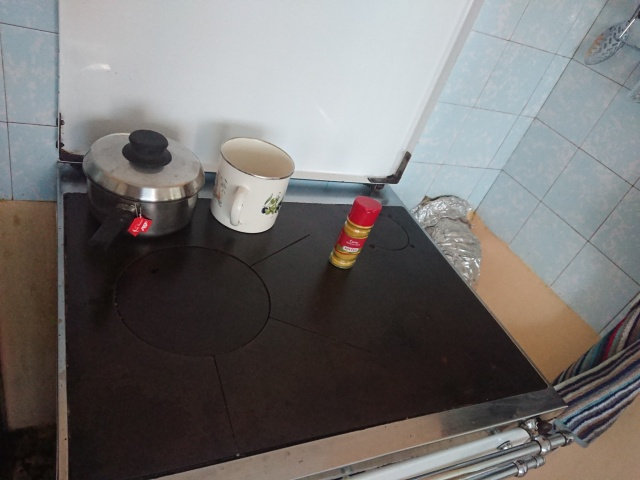Kotanyi Curry Spices Mix 70g: (326, 193, 384, 271)
